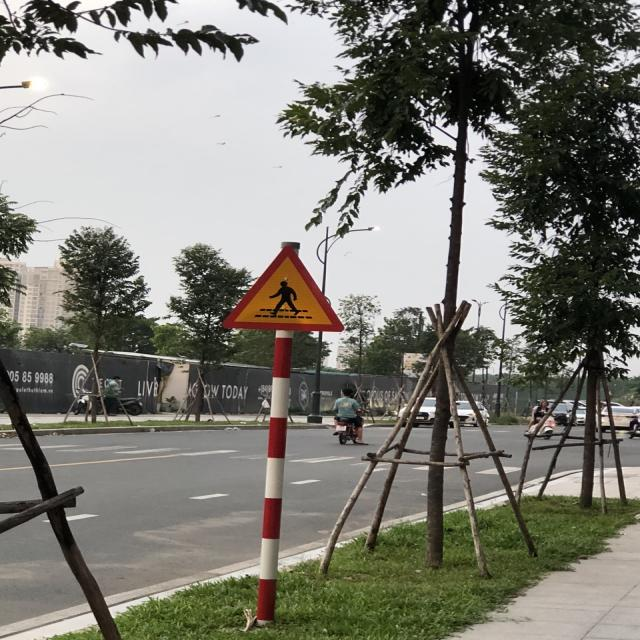Bien bao duong nguoi di bo cat ngang: (212, 235, 360, 344)
